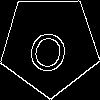O: (24, 20, 74, 76)
